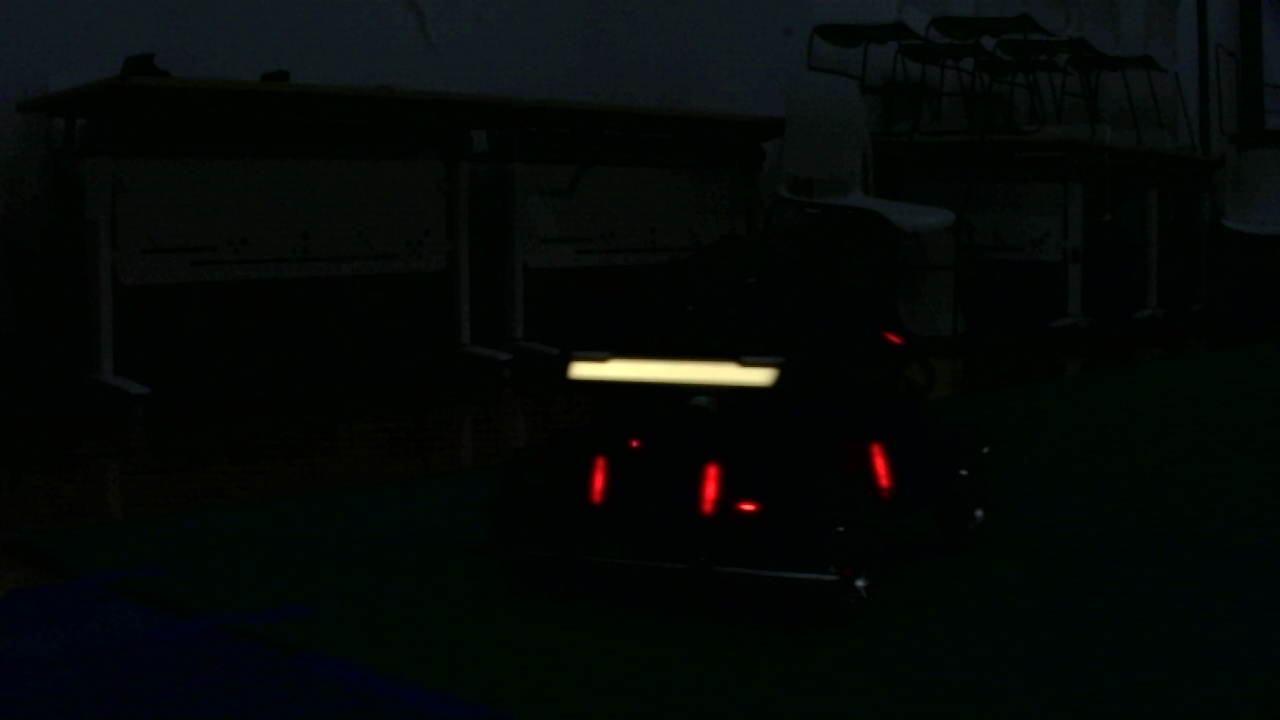lamp: (698, 449, 725, 521), (868, 440, 896, 496), (587, 449, 606, 515)
notpair1: (701, 439, 895, 525)
pair1: (591, 450, 721, 524)
